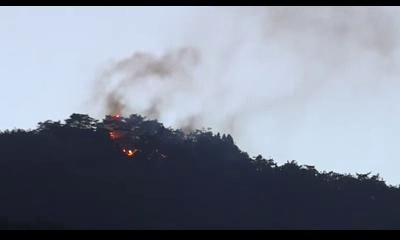smoke: (100, 9, 225, 119)
